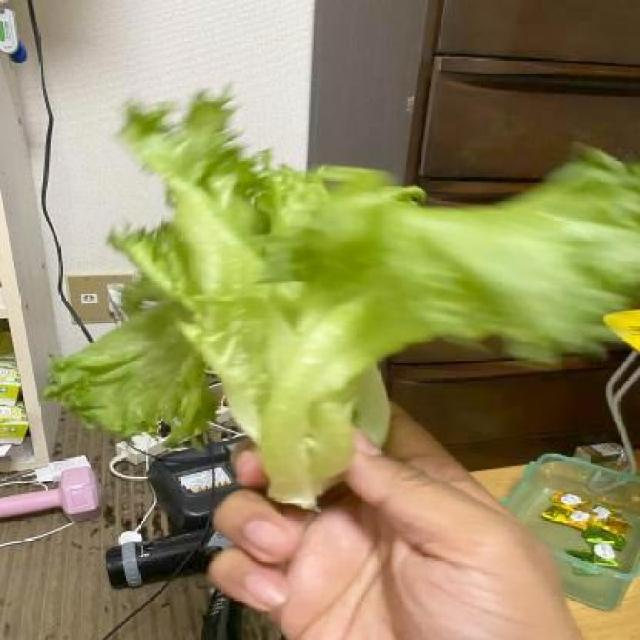Lettuce: (44, 84, 640, 513)
